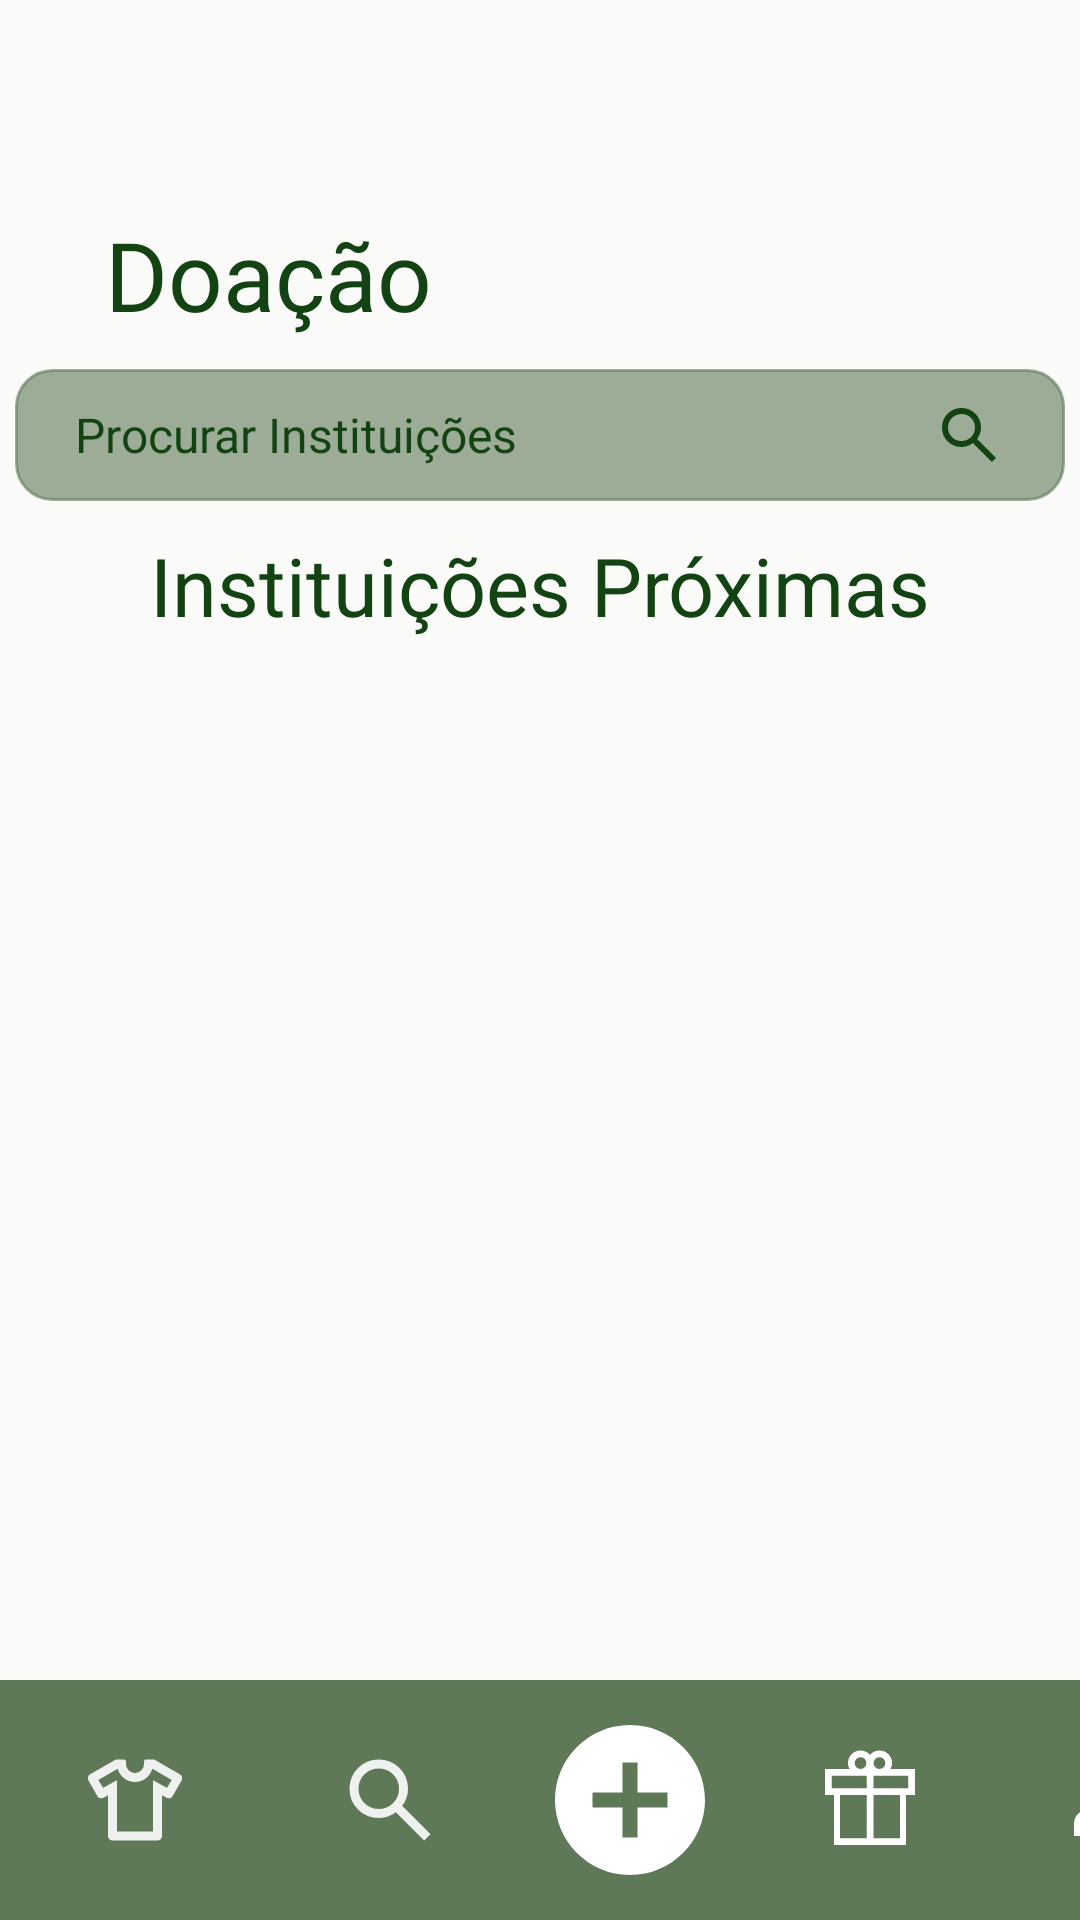

Point at icon controls on the screen. Image size 1080*1920, points as (x,y).
add circle: (630,1800)
iconedoacao: (870,1797)
search branco: (390,1800)
